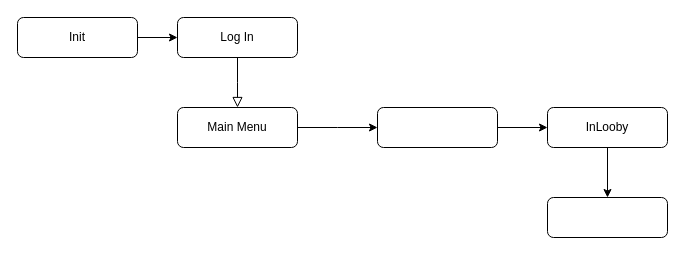
The diagram is 685 pixels wide and 255 high, and some of its shapes have lost their labels. Each missing label, with the centre of its shape:
"InGame" goes at (607,217).
"LookingForLoobies" goes at (437,127).
